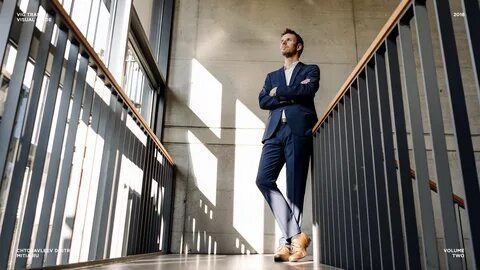awake: (255, 27, 321, 263)
